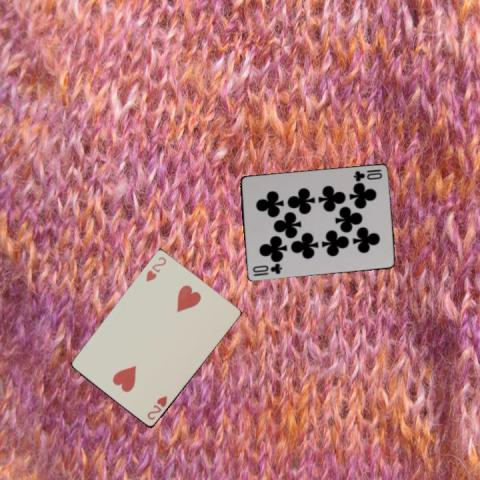10c: (249, 261, 283, 277), (350, 166, 383, 182)
2h: (143, 254, 168, 283), (144, 394, 169, 422)
